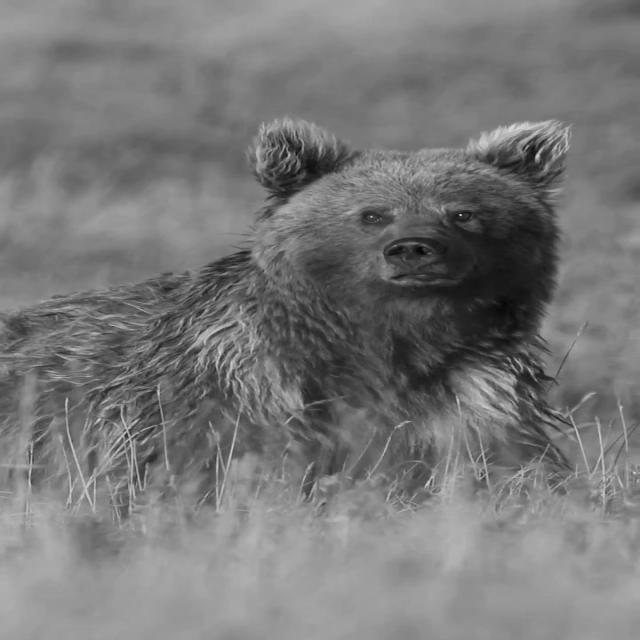Bear: (0, 116, 578, 528)
